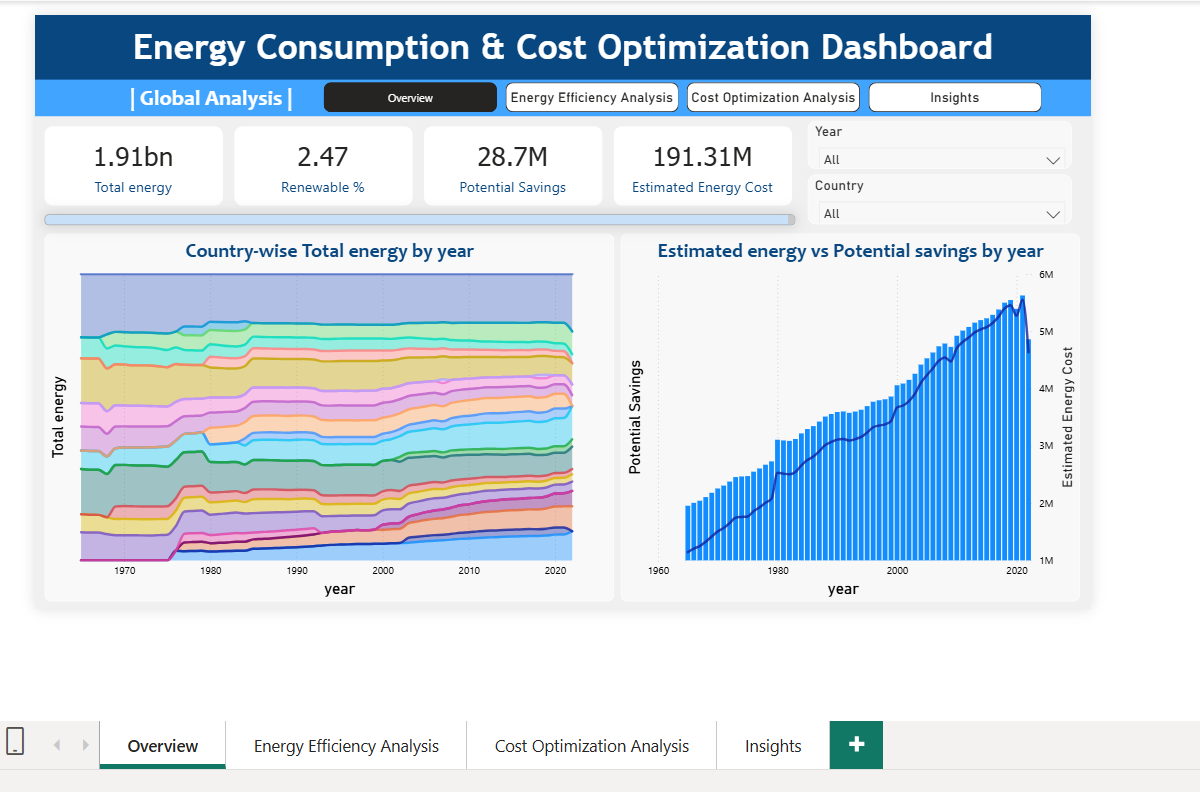

The page's visual inventory and layout, read from the dashboard file:
{"tool":"powerbi","page":{"name":"Overview","canvas":[1280,720],"ordinal":0},"visuals":[{"type":"textbox","box":[0,0,1280,92],"z":0},{"type":"textbox","box":[0,78,1280,44],"z":1000},{"type":"card","fields":{"Values":["World Energy Consumption.Total energy"]},"box":[11.4,135.7,215.7,95.7],"z":2000},{"type":"hundredPercentStackedAreaChart","title":"Country-wise Total energy by year","fields":{"Category":["World Energy Consumption.year"],"Y":["World Energy Consumption.Total energy"],"Series":["World Energy Consumption.country"]},"box":[12,264.3,690,446],"z":3000},{"type":"lineStackedColumnComboChart","title":"Estimated energy vs Potential savings by year","fields":{"Category":["World Energy Consumption.year"],"Y2":["World Energy Consumption.Estimated Energy Cost"],"Y":["World Energy Consumption.Potential Savings"]},"box":[710,264.3,556,446],"z":4000},{"type":"slicer","title":"Year","fields":{"Values":["World Energy Consumption.year"]},"box":[936,128,320,58],"z":5000},{"type":"slicer","title":"Country","fields":{"Values":["World Energy Consumption.country"]},"box":[936,194,320,60],"z":6000},{"type":"card","fields":{"Values":["World Energy Consumption.Renewable %"]},"box":[241.4,135.7,215.7,95.7],"z":7000},{"type":"card","fields":{"Values":["World Energy Consumption.Potential Savings"]},"box":[471.4,135.7,215.7,95.7],"z":8000},{"type":"card","fields":{"Values":["World Energy Consumption.Estimated Energy Cost"]},"box":[701.4,135.7,215.7,95.7],"z":9000},{"type":"textbox","box":[12,242,910,12.9],"z":10000},{"type":"pageNavigator","box":[350,82,870,36],"z":10001}]}

Visuals, with their boxes on the page's 1280x720 design canvas (x1, y1, x2, y2). These are canvas units, not pixel positions in the 1200x792 screenshot, which may show the page scaled, cropped or inside an application window:
textbox: select_region(0, 0, 1280, 92)
textbox: select_region(0, 78, 1280, 122)
card - World Energy Consumption.Total energy: select_region(11, 136, 227, 231)
"Country-wise Total energy by year" hundredPercentStackedAreaChart: select_region(12, 264, 702, 710)
"Estimated energy vs Potential savings by year" lineStackedColumnComboChart: select_region(710, 264, 1266, 710)
"Year" slicer: select_region(936, 128, 1256, 186)
"Country" slicer: select_region(936, 194, 1256, 254)
card - World Energy Consumption.Renewable %: select_region(241, 136, 457, 231)
card - World Energy Consumption.Potential Savings: select_region(471, 136, 687, 231)
card - World Energy Consumption.Estimated Energy Cost: select_region(701, 136, 917, 231)
textbox: select_region(12, 242, 922, 255)
pageNavigator: select_region(350, 82, 1220, 118)
